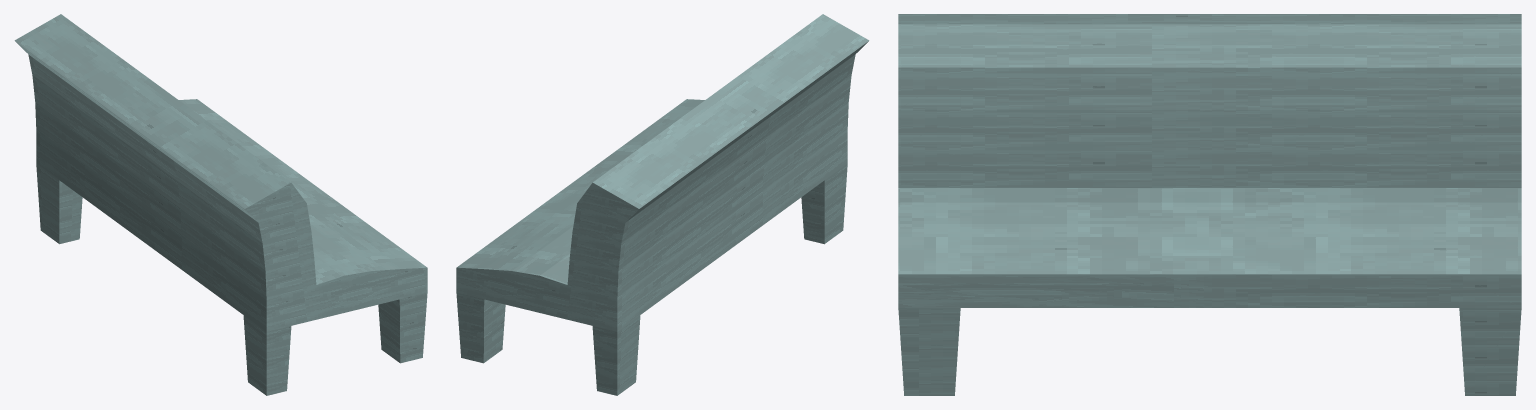
The model's file is Bench.gltf.
3 renders of one model, left to right at view 1: azimuth 30°, elevation 25°; view 2: azimuth 150°, elevation 25°; view 3: azimuth 270°, elevation 25°, orthographic. The views are drawn at different scales.
Parts seen in each view (by area): view 1: Cube; view 2: Cube; view 3: Cube.
Part boxes in pixels (x1=…): Cube: x1=14, y1=14, x2=427, y2=395; Cube: x1=456, y1=14, x2=869, y2=395; Cube: x1=898, y1=14, x2=1521, y2=395.
Bounding box in the file's own units: 1.89 × 2.07 × 4.12.
Materials: 1 (1 with a texture image).
